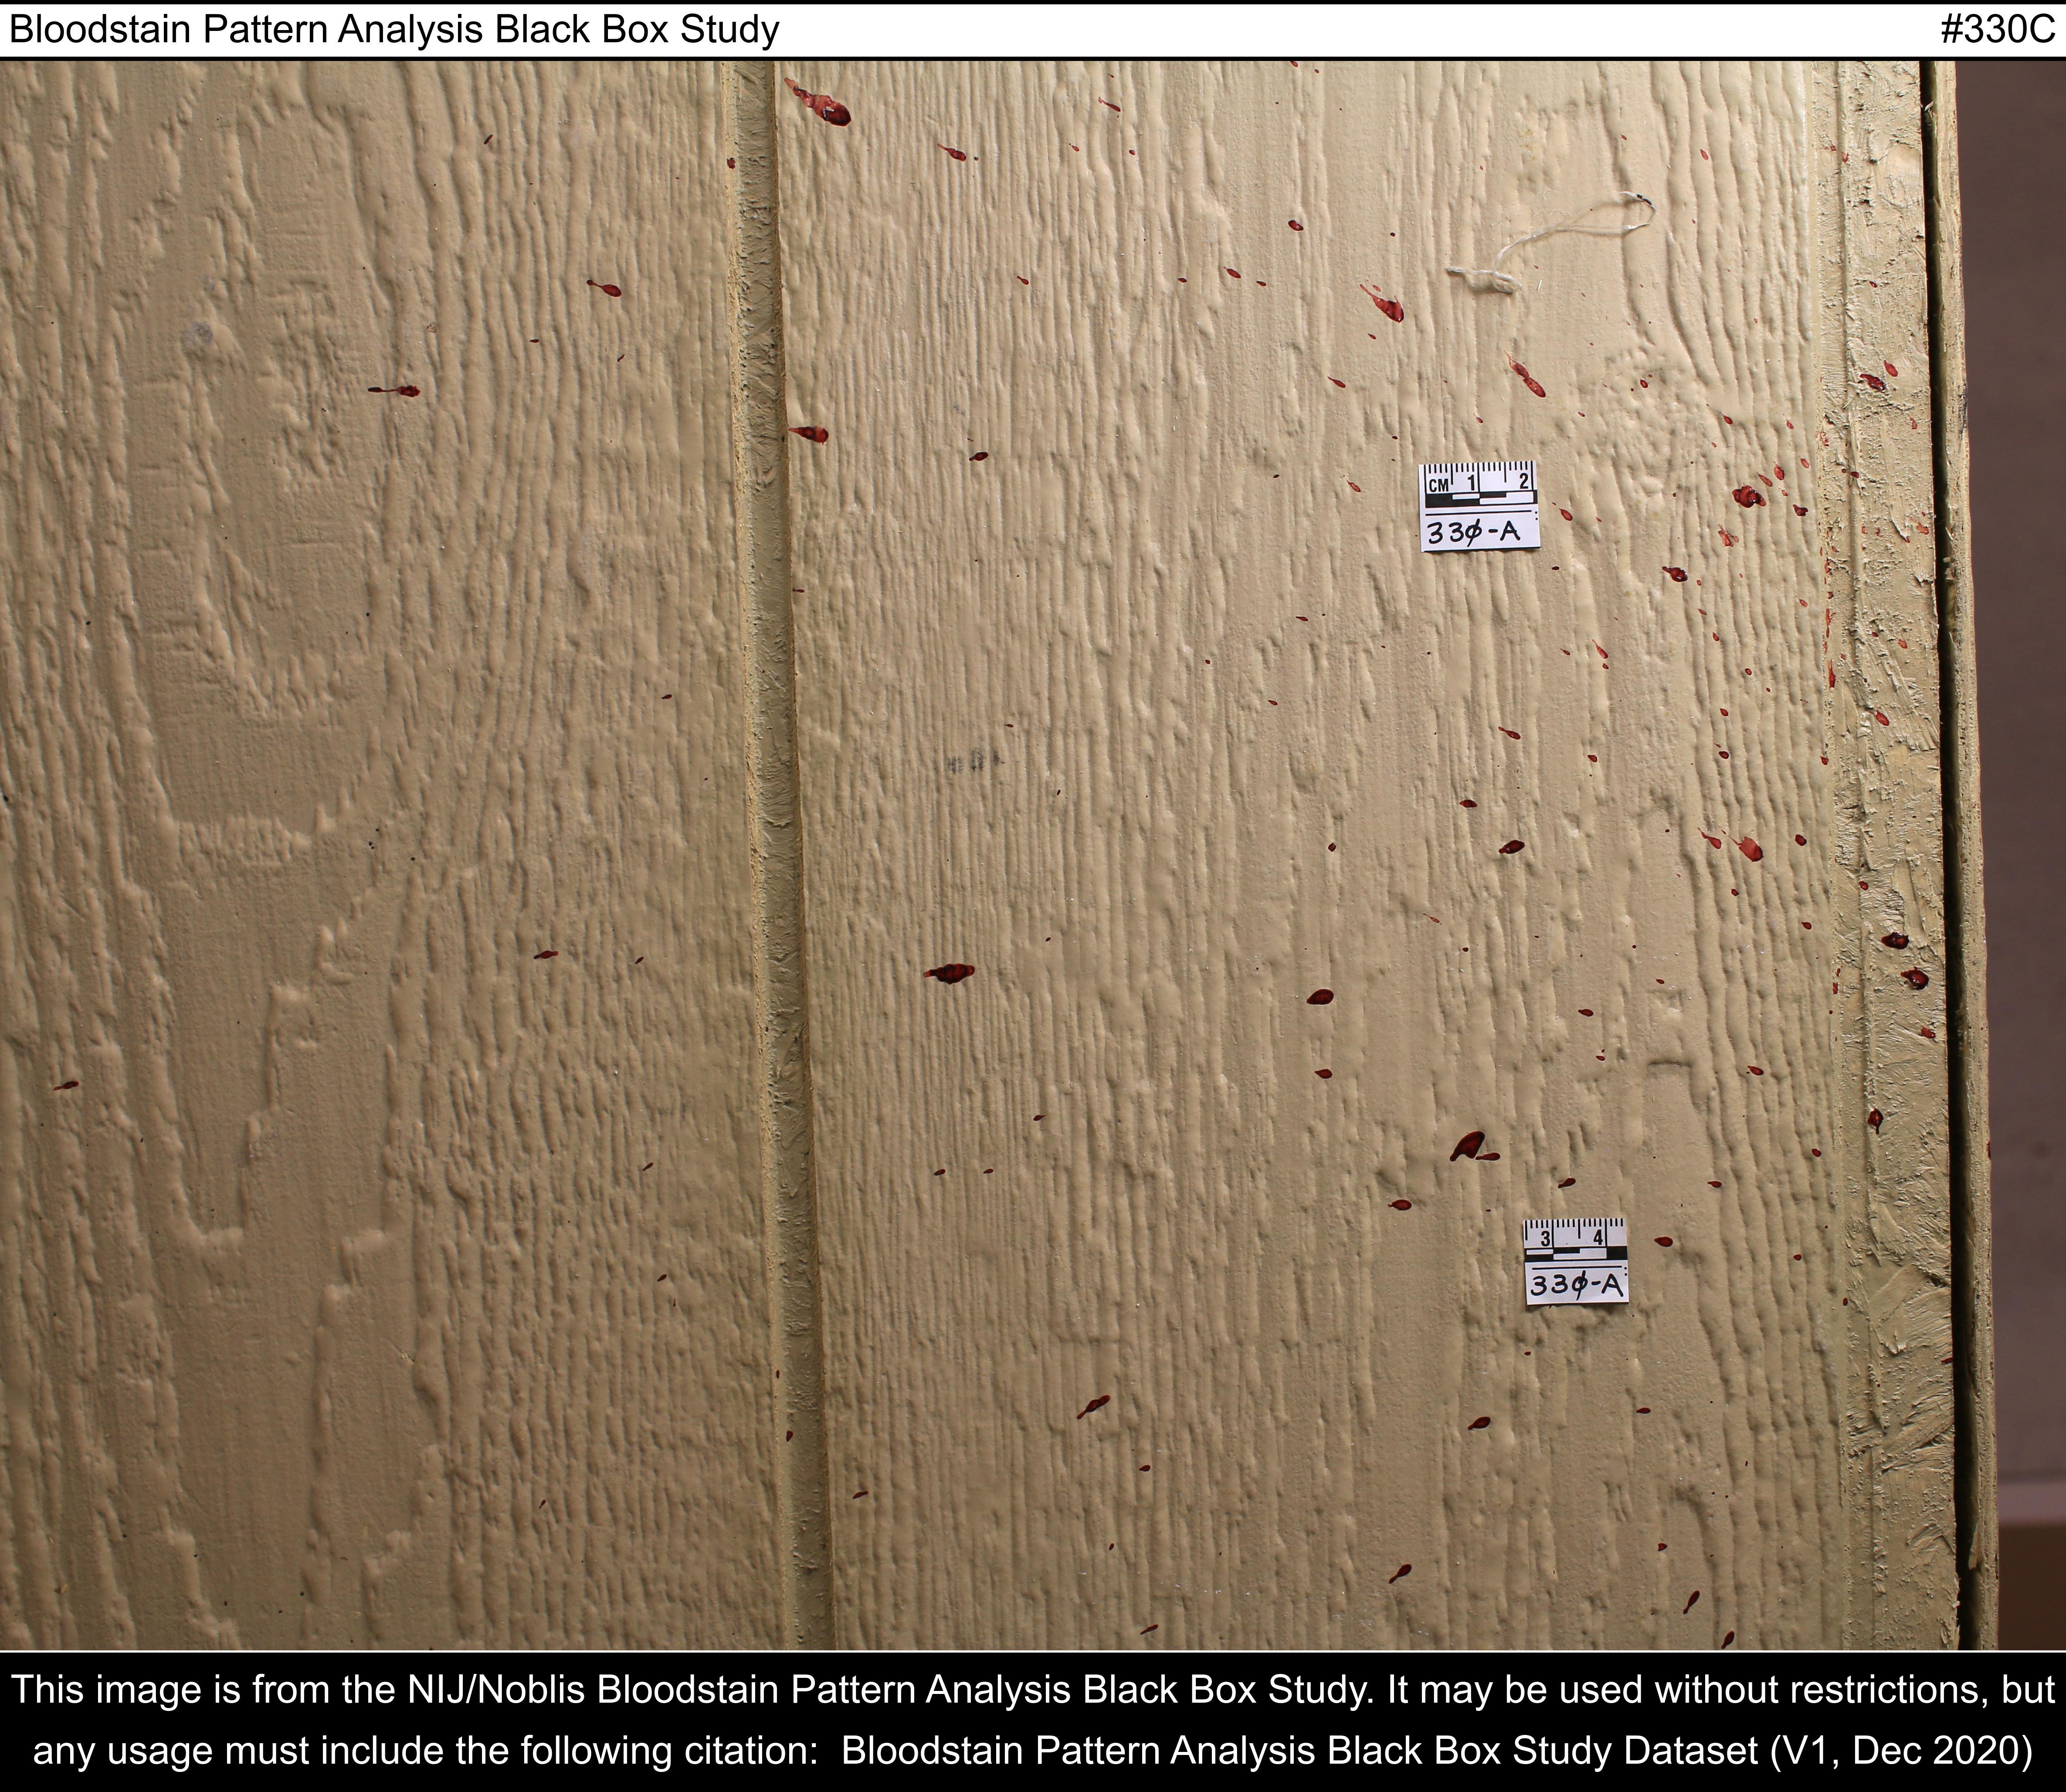Impact: (777, 56, 1957, 1646)
